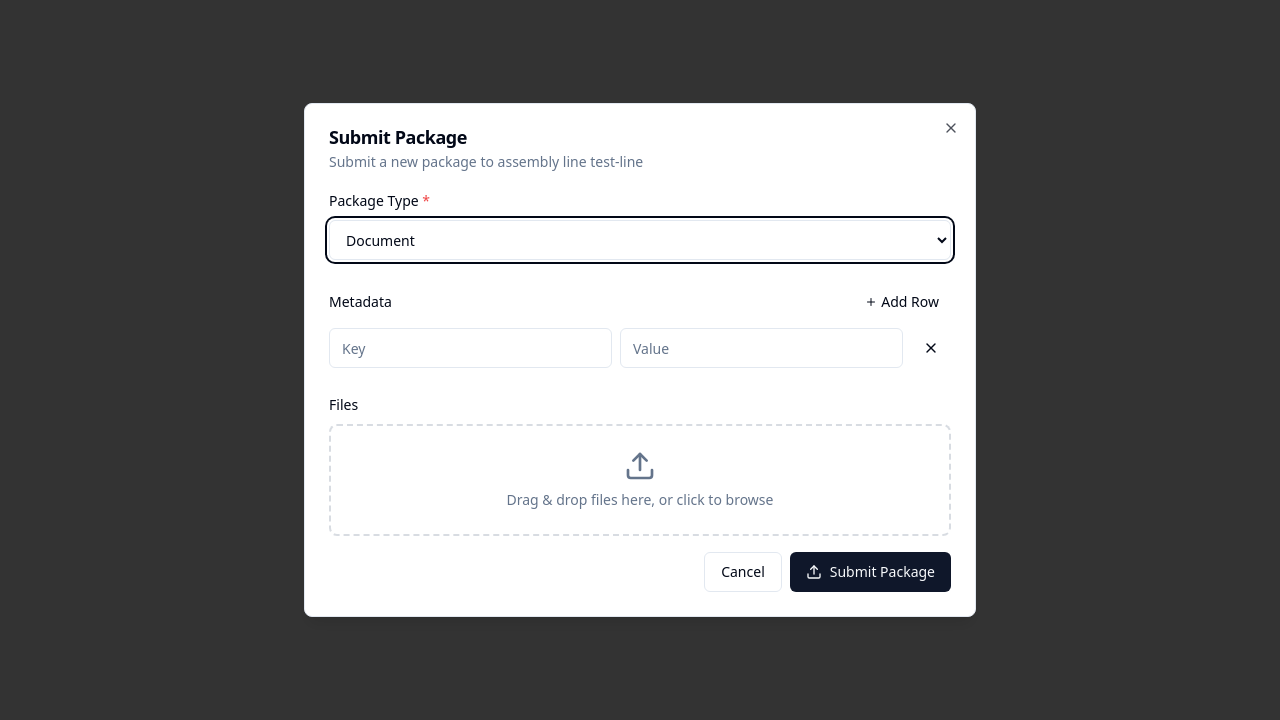
it: PackageSubmitDialog › metadata editor › adds new metadata row on Add Row click
Click the button "Add Row": (902, 302) [853,284,951,320]
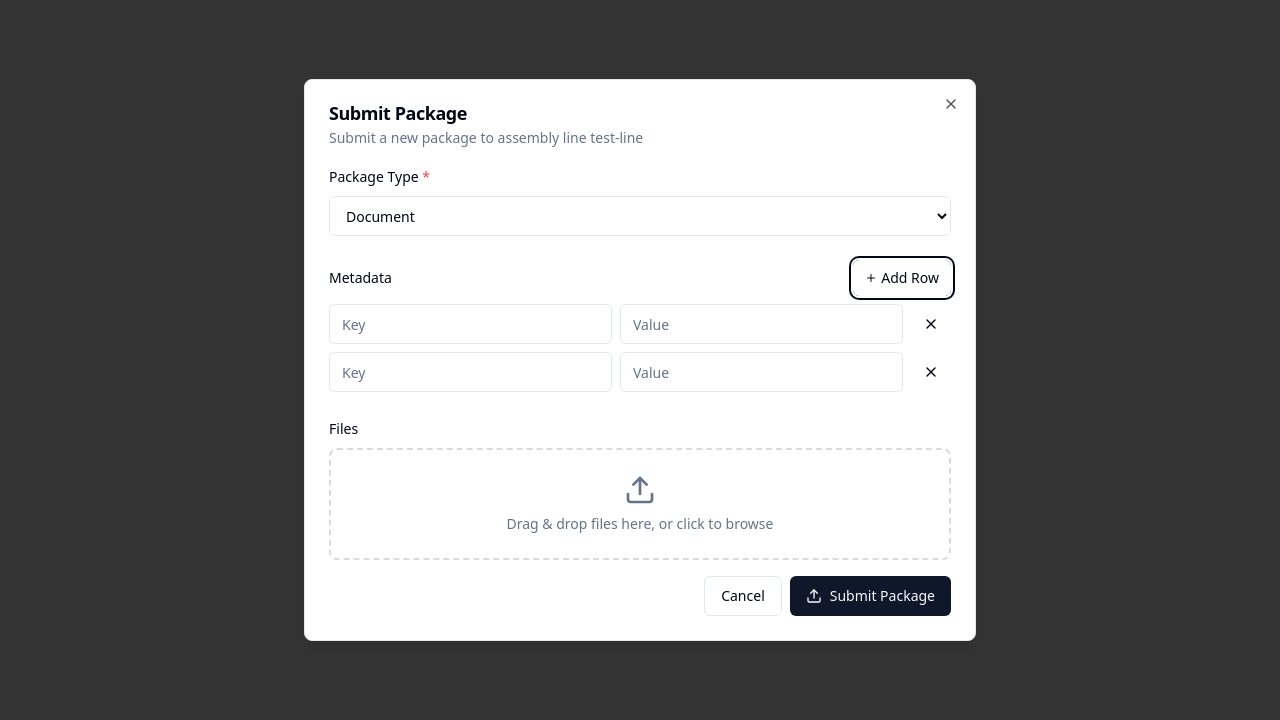
Check: the number of fields with placeholder "Key" is 2, box [329,304,612,344]; [329,352,612,392]
